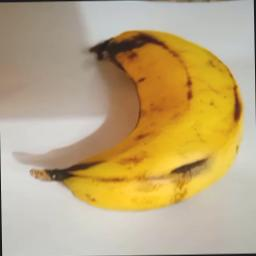Banana Unripe: (26, 27, 248, 211)
